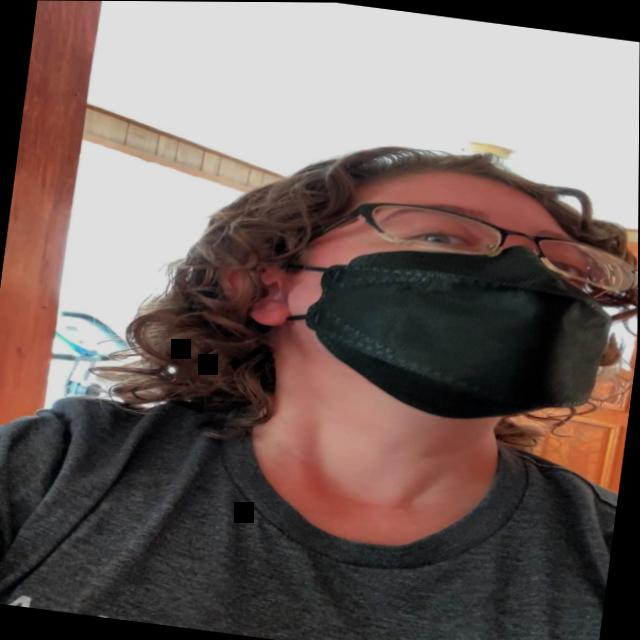Mask: (274, 156, 639, 437)
